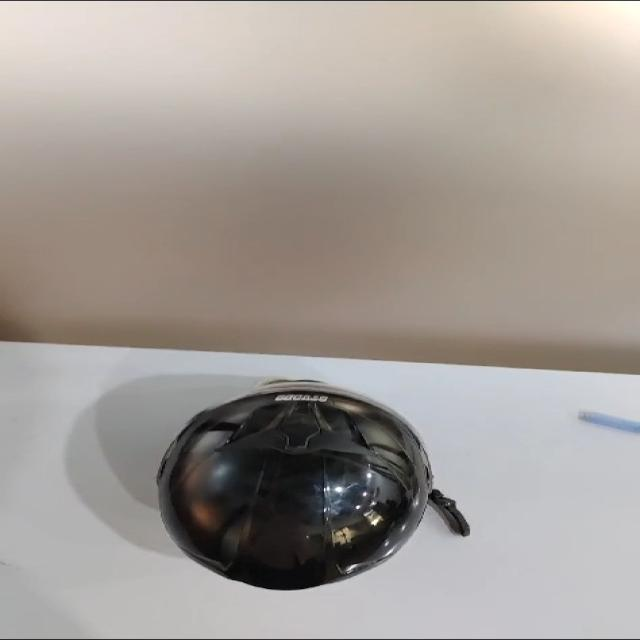helmet: (157, 374, 468, 587)
